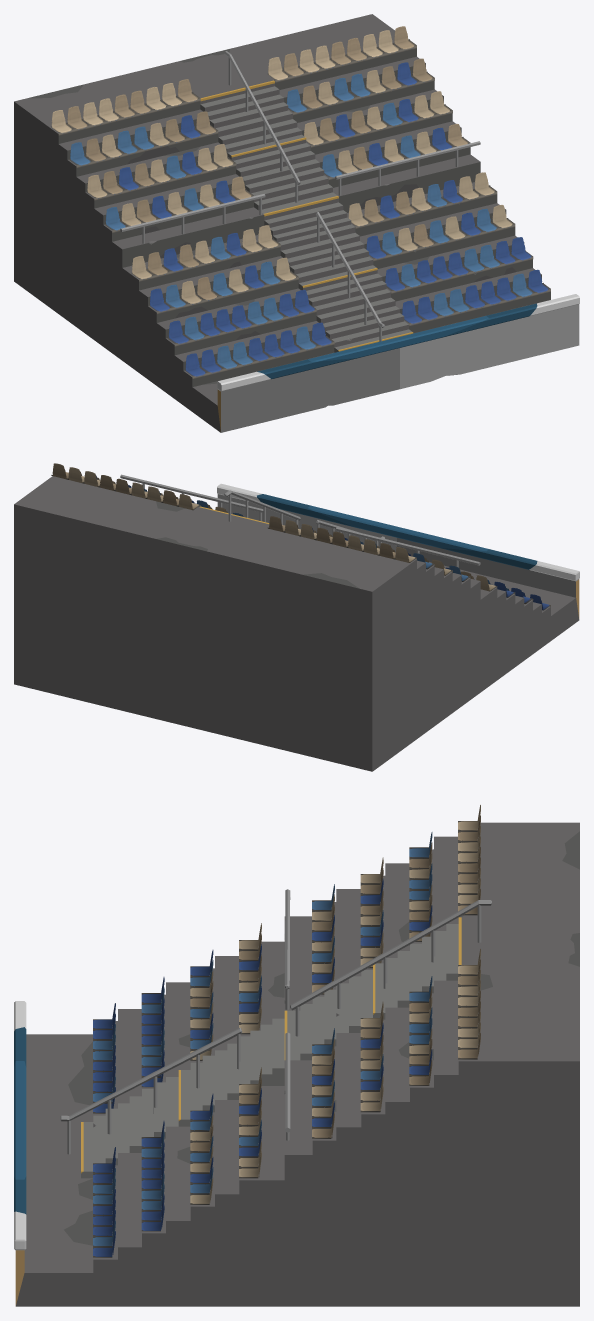
The model's file is grandstand.glb.
3 renders of one model, top to bottom at view 1: azimuth 30°, elevation 25°; view 2: azimuth 150°, elevation 25°; view 3: azimuth 270°, elevation 25°, orthographic. The views are drawn at different scales.
Parts seen in each view (by area): view 1: SM_Bld_Grandstand_01, SM_Bld_Grandstand_Seating_01; view 2: SM_Bld_Grandstand_01, SM_Bld_Grandstand_Seating_01; view 3: SM_Bld_Grandstand_01, SM_Bld_Grandstand_Seating_01.
Boxes of the visible parts, bbox=[...] form: SM_Bld_Grandstand_01: bbox=[14, 14, 579, 432]; SM_Bld_Grandstand_Seating_01: bbox=[51, 26, 550, 378]; SM_Bld_Grandstand_01: bbox=[14, 474, 579, 771]; SM_Bld_Grandstand_Seating_01: bbox=[51, 463, 550, 610]; SM_Bld_Grandstand_01: bbox=[14, 822, 579, 1306]; SM_Bld_Grandstand_Seating_01: bbox=[93, 805, 480, 1257].
Size of the model in its own units: 12.52 by 7.01 by 12.54.
Materials: 3 (3 with a texture image).
